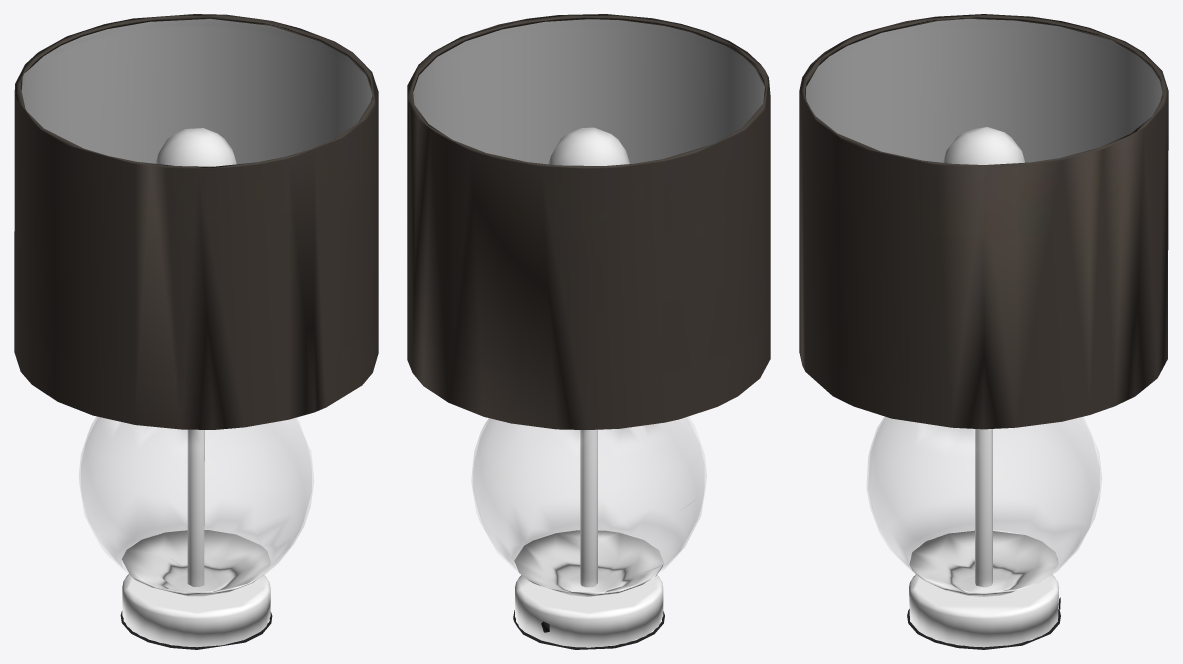
File: IridescenceLamp.glb
3 views of the same model, side by side, from view 1: azimuth 30°, elevation 25°; view 2: azimuth 150°, elevation 25°; view 3: azimuth 270°, elevation 25° (orthographic).
Visible parts, largest first — view 1: lamp, lamp_iridescence, lamp_transmission; view 2: lamp, lamp_iridescence, lamp_transmission; view 3: lamp, lamp_iridescence, lamp_transmission.
Part boxes in pixels (x1,y1,x2,y2): lamp: (14, 14, 378, 649); lamp_iridescence: (21, 19, 372, 164); lamp_transmission: (79, 417, 313, 592); lamp: (407, 14, 770, 649); lamp_iridescence: (413, 19, 764, 164); lamp_transmission: (471, 417, 706, 592); lamp: (799, 14, 1168, 649); lamp_iridescence: (806, 19, 1162, 162); lamp_transmission: (866, 417, 1101, 592).
Size of the model in its own units: 0.2968 by 0.4755 by 0.3016.
Materials: 3 (3 with a texture image).
